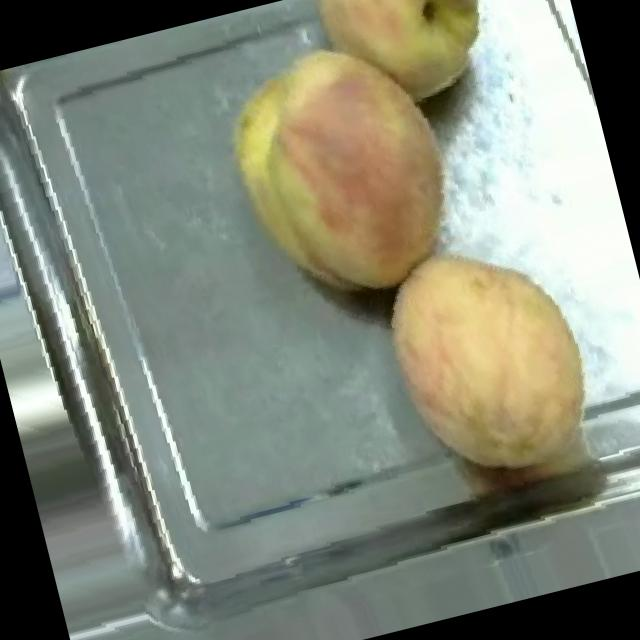Fruit: (192, 5, 494, 332), (357, 212, 617, 502), (289, 0, 528, 138)
